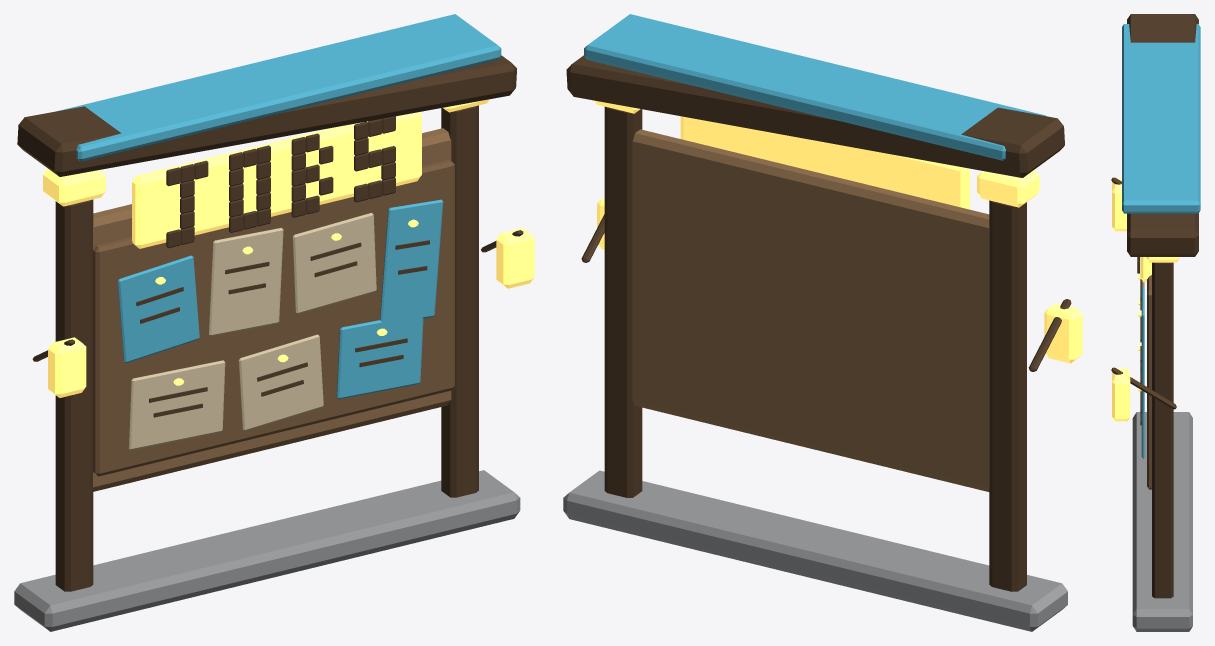
File: jobs_board_blue.glb
The picture shows the model from 3 angles, left to right: view 1: azimuth 30°, elevation 25°; view 2: azimuth 150°, elevation 25°; view 3: azimuth 270°, elevation 25°; orthographic projection. The views are drawn at different scales.
Bounding box in the file's own units: 6.62 × 6.45 × 1.23.
